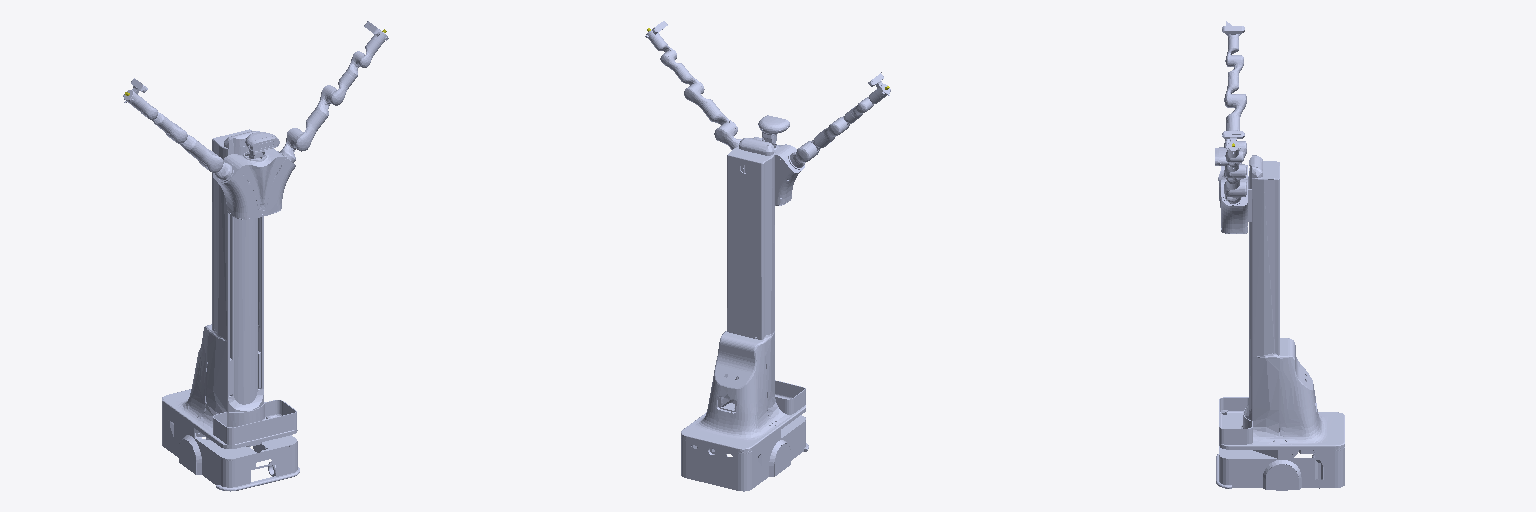
--- Facts derived from the render (not from the file) ---
Views: 3 orthographic renders of the robot side by side, from view 1: azimuth 30°, elevation 25°; view 2: azimuth 150°, elevation 25°; view 3: azimuth 270°, elevation 25°.
Model overseas_75_b_v_description with 45 links and 44 joints (24 revolute, 10 continuous, 1 prismatic, 9 fixed), rooted at world, posed all joints at 0.
Visible links, largest first — view 1: body_base_link, base_link_underpan, platform_base_link, l_link2; view 2: body_base_link, base_link_underpan, platform_base_link, head_link2; view 3: body_base_link, base_link_underpan, platform_base_link.
Link boxes in pixels (box(x1,y1,x2,y2)): body_base_link: box(162, 129, 296, 448); base_link_underpan: box(162, 403, 299, 491); platform_base_link: box(213, 148, 295, 219); l_link2: box(294, 110, 325, 151); body_base_link: box(681, 138, 805, 452); base_link_underpan: box(681, 411, 808, 491); platform_base_link: box(753, 137, 804, 205); head_link2: box(758, 115, 789, 144); body_base_link: box(1219, 155, 1344, 448); base_link_underpan: box(1216, 445, 1344, 489); platform_base_link: box(1218, 165, 1251, 233).
Size in the robot's own frame: 1.39 by 0.6479 by 2.2 metres.
30 mesh visuals loaded from 37 distinct referenced files (30 binary STL); not drawn: 12 (reference not matched to a file when rendering).

The robot description file, URDF, robot "overseas_75_b_v_description":
<?xml version="1.0" encoding="utf-8"?>
<!-- This URDF was automatically created by SolidWorks to URDF Exporter! Originally created by Stephen Brawner ([email redacted]) 
     Commit Version: 1.6.0-4-g7f85cfe  Build Version: 1.6.7995.38578
     For more information, please see http://wiki.ros.org/sw_urdf_exporter -->
<robot
  name="overseas_75_b_v_description">
  <link name="world">
  </link>
  <joint name="world_joint" type="fixed">
  <parent link="world" />
  <child link="base_link_underpan" />
  </joint>

  <link
    name="base_link_underpan">
    <inertial>
      <origin
        xyz="-0.012628 -0.016092 -0.060646"
        rpy="0 0 0" />
      <mass
        value="2.5521" />
      <inertia
        ixx="0.066197"
        ixy="7.0297E-05"
        ixz="0.00017628"
        iyy="0.034903"
        iyz="-0.00059595"
        izz="0.097938" />
    </inertial>
    <visual>
      <origin
        xyz="0 0 0"
        rpy="0 0 0" />
      <geometry>
        <mesh
          filename="meshes_true/base_link_underpan.STL" />
      </geometry>
      <material
        name="">
        <color
          rgba="0.79216 0.81961 0.93333 1" />
      </material>
    </visual>
    <collision>
      <origin
        xyz="0 0 0"
        rpy="0 0 0" />
      <geometry>
        <mesh
          filename="meshes_true/base_link_underpan.STL" />
      </geometry>
    </collision>
  </link>
  <link
    name="link_right_wheel">
    <inertial>
      <origin
        xyz="-0.024898 2.5665E-18 0"
        rpy="0 0 0" />
      <mass
        value="1.0523" />
      <inertia
        ixx="0.0033125"
        ixy="1.5953E-19"
        ixz="1.2287E-20"
        iyy="0.0018066"
        iyz="2.5666E-19"
        izz="0.0018066" />
    </inertial>
    <visual>
      <origin
        xyz="0 0 0"
        rpy="0 0 0" />
      <geometry>
        <mesh
          filename="meshes_true/link_right_wheel.STL" />
      </geometry>
      <material
        name="">
        <color
          rgba="0.79216 0.81961 0.93333 1" />
      </material>
    </visual>
    <collision>
      <origin
        xyz="0 0 0"
        rpy="0 0 0" />
      <geometry>
        <mesh
          filename="meshes_true/link_right_wheel.STL" />
      </geometry>
    </collision>
  </link>
  <joint
    name="joint_right_wheel"
    type="continuous">
    <origin
      xyz="-0.148 0.015574 -0.153"
      rpy="0 0 0" />
    <parent
      link="base_link_underpan" />
    <child
      link="link_right_wheel" />
    <axis
      xyz="1 0 0" />
    <limit
      effort="100"
      velocity="10" />
  </joint>
  <link
    name="link_left_wheel">
    <inertial>
      <origin
        xyz="0.025224 -8.8034E-15 0"
        rpy="0 0 0" />
      <mass
        value="1.0734" />
      <inertia
        ixx="0.0033996"
        ixy="-5.0277E-16"
        ixz="9.2981E-21"
        iyy="0.0019593"
        iyz="3.7534E-19"
        izz="0.0019593" />
    </inertial>
    <visual>
      <origin
        xyz="0 0 0"
        rpy="0 0 0" />
      <geometry>
        <mesh
          filename="meshes_true/link_left_wheel.STL" />
      </geometry>
      <material
        name="">
        <color
          rgba="0.79216 0.81961 0.93333 1" />
      </material>
    </visual>
    <collision>
      <origin
        xyz="0 0 0"
        rpy="0 0 0" />
      <geometry>
        <mesh
          filename="meshes_true/link_left_wheel.STL" />
      </geometry>
    </collision>
  </link>
  <joint
    name="joint_left_wheel"
    type="continuous">
    <origin
      xyz="0.148 0.015574 -0.153"
      rpy="0 0 0" />
    <parent
      link="base_link_underpan" />
    <child
      link="link_left_wheel" />
    <axis
      xyz="-1 0 0" />
    <limit
      effort="100"
      velocity="10" />
  </joint>
  <link
    name="link_swivel_wheel_1_1">
    <inertial>
      <origin
        xyz="0.00067987 -0.0050012 -0.013414"
        rpy="0 0 0" />
      <mass
        value="0.088835" />
      <inertia
        ixx="3.1679E-05"
        ixy="2.0129E-08"
        ixz="2.7021E-08"
        iyy="3.9438E-05"
        iyz="-3.2776E-06"
        izz="4.6143E-05" />
    </inertial>
    <visual>
      <origin
        xyz="0 0 0"
        rpy="0 0 0" />
      <geometry>
        <mesh
          filename="meshes_true/link_swivel_wheel_1_1.STL" />
      </geometry>
      <material
        name="">
        <color
          rgba="0.79216 0.81961 0.93333 1" />
      </material>
    </visual>
    <collision>
      <origin
        xyz="0 0 0"
        rpy="0 0 0" />
      <geometry>
        <mesh
          filename="meshes_true/link_swivel_wheel_1_1.STL" />
      </geometry>
    </collision>
  </link>
  <joint
    name="joint_swivel_wheel_1_1"
    type="continuous">
    <origin
      xyz="0.124 -0.17843 -0.16254"
      rpy="0 0 0" />
    <parent
      link="base_link_underpan" />
    <child
      link="link_swivel_wheel_1_1" />
    <axis
      xyz="0 0 1" />
  </joint>
  <link
    name="link_swivel_wheel_1_2">
    <inertial>
      <origin
        xyz="0.0010651 2.2204E-16 9.4369E-16"
        rpy="0 0 0" />
      <mass
        value="0.12664" />
      <inertia
        ixx="0.00011169"
        ixy="1.1345E-14"
        ixz="2.2064E-14"
        iyy="6.0838E-05"
        iyz="1.7051E-09"
        izz="6.084E-05" />
    </inertial>
    <visual>
      <origin
        xyz="0 0 0"
        rpy="0 0 0" />
      <geometry>
        <mesh
          filename="meshes_true/link_swivel_wheel_1_2.STL" />
      </geometry>
      <material
        name="">
        <color
          rgba="0.79216 0.81961 0.93333 1" />
      </material>
    </visual>
    <collision>
      <origin
        xyz="0 0 0"
        rpy="0 0 0" />
      <geometry>
        <mesh
          filename="meshes_true/link_swivel_wheel_1_2.STL" />
      </geometry>
    </collision>
  </link>
  <joint
    name="joint_swivel_wheel_1_2"
    type="continuous">
    <origin
      xyz="-0.0035 -0.022 -0.04516"
      rpy="0 0 0" />
    <parent
      link="link_swivel_wheel_1_1" />
    <child
      link="link_swivel_wheel_1_2" />
    <axis
      xyz="1 0 0" />
  </joint>
  <link
    name="link_swivel_wheel_2_1">
    <inertial>
      <origin
        xyz="0.00067987 -0.0050012 -0.013414"
        rpy="0 0 0" />
      <mass
        value="0.088835" />
      <inertia
        ixx="3.1679E-05"
        ixy="2.0129E-08"
        ixz="2.7021E-08"
        iyy="3.9438E-05"
        iyz="-3.2776E-06"
        izz="4.6143E-05" />
    </inertial>
    <visual>
      <origin
        xyz="0 0 0"
        rpy="0 0 0" />
      <geometry>
        <mesh
          filename="meshes_true/link_swivel_wheel_2_1.STL" />
      </geometry>
      <material
        name="">
        <color
          rgba="0.79216 0.81961 0.93333 1" />
      </material>
    </visual>
    <collision>
      <origin
        xyz="0 0 0"
        rpy="0 0 0" />
      <geometry>
        <mesh
          filename="meshes_true/link_swivel_wheel_2_1.STL" />
      </geometry>
    </collision>
  </link>
  <joint
    name="joint_swivel_wheel_2_1"
    type="continuous">
    <origin
      xyz="-0.126 0.22157 -0.16254"
      rpy="0 0 0" />
    <parent
      link="base_link_underpan" />
    <child
      link="link_swivel_wheel_2_1" />
    <axis
      xyz="0 0 1" />
  </joint>
  <link
    name="link_swivel_wheel_2_2">
    <inertial>
      <origin
        xyz="0.0010651 6.1062E-16 7.7716E-16"
        rpy="0 0 0" />
      <mass
        value="0.12664" />
      <inertia
        ixx="0.00011169"
        ixy="1.9869E-14"
        ixz="1.4856E-14"
        iyy="6.084E-05"
        iyz="2.0109E-09"
        izz="6.0838E-05" />
    </inertial>
    <visual>
      <origin
        xyz="0 0 0"
        rpy="0 0 0" />
      <geometry>
        <mesh
          filename="meshes_true/link_swivel_wheel_2_2.STL" />
      </geometry>
      <material
        name="">
        <color
          rgba="0.79216 0.81961 0.93333 1" />
      </material>
    </visual>
    <collision>
      <origin
        xyz="0 0 0"
        rpy="0 0 0" />
      <geometry>
        <mesh
          filename="meshes_true/link_swivel_wheel_2_2.STL" />
      </geometry>
    </collision>
  </link>
  <joint
    name="joint_swivel_wheel_2_2"
    type="continuous">
    <origin
      xyz="-0.0035 -0.022 -0.04516"
      rpy="0 0 0" />
    <parent
      link="link_swivel_wheel_2_1" />
    <child
      link="link_swivel_wheel_2_2" />
    <axis
      xyz="1 0 0" />
  </joint>
  <link
    name="link_swivel_wheel_3_1">
    <inertial>
      <origin
        xyz="0.00067987 -0.0050012 -0.013414"
        rpy="0 0 0" />
      <mass
        value="0.088835" />
      <inertia
        ixx="3.1679E-05"
        ixy="2.0129E-08"
        ixz="2.7021E-08"
        iyy="3.9438E-05"
        iyz="-3.2776E-06"
        izz="4.6143E-05" />
    </inertial>
    <visual>
      <origin
        xyz="0 0 0"
        rpy="0 0 0" />
      <geometry>
        <mesh
          filename="meshes_true/link_swivel_wheel_3_1.STL" />
      </geometry>
      <material
        name="">
        <color
          rgba="0.79216 0.81961 0.93333 1" />
      </material>
    </visual>
    <collision>
      <origin
        xyz="0 0 0"
        rpy="0 0 0" />
      <geometry>
        <mesh
          filename="meshes_true/link_swivel_wheel_3_1.STL" />
      </geometry>
    </collision>
  </link>
  <joint
    name="joint_swivel_wheel_3_1"
    type="continuous">
    <origin
      xyz="0.124 0.22157 -0.16254"
      rpy="0 0 0" />
    <parent
      link="base_link_underpan" />
    <child
      link="link_swivel_wheel_3_1" />
    <axis
      xyz="0 0 1" />
  </joint>
  <link
    name="link_swivel_wheel_3_2">
    <inertial>
      <origin
        xyz="0.0010651 -3.3307E-16 8.8818E-16"
        rpy="0 0 0" />
      <mass
        value="0.12664" />
      <inertia
        ixx="0.00011169"
        ixy="-1.8513E-15"
        ixz="2.474E-14"
        iyy="6.0837E-05"
        iyz="-3.1204E-10"
        izz="6.0841E-05" />
    </inertial>
    <visual>
      <origin
        xyz="0 0 0"
        rpy="0 0 0" />
      <geometry>
        <mesh
          filename="meshes_true/link_swivel_wheel_3_2.STL" />
      </geometry>
      <material
        name="">
        <color
          rgba="0.79216 0.81961 0.93333 1" />
      </material>
    </visual>
    <collision>
      <origin
        xyz="0 0 0"
        rpy="0 0 0" />
      <geometry>
        <mesh
          filename="meshes_true/link_swivel_wheel_3_2.STL" />
      </geometry>
    </collision>
  </link>
  <joint
    name="joint_swivel_wheel_3_2"
    type="continuous">
    <origin
      xyz="-0.0035 -0.022 -0.04516"
      rpy="0 0 0" />
    <parent
      link="link_swivel_wheel_3_1" />
    <child
      link="link_swivel_wheel_3_2" />
    <axis
      xyz="1 0 0" />
  </joint>
  <link
    name="link_swivel_wheel_4_1">
    <inertial>
      <origin
        xyz="0.00067987 -0.0050012 -0.0094542"
        rpy="0 0 0" />
      <mass
        value="0.088835" />
      <inertia
        ixx="3.1679E-05"
        ixy="2.0129E-08"
        ixz="2.7021E-08"
        iyy="3.9438E-05"
        iyz="-3.2776E-06"
        izz="4.6143E-05" />
    </inertial>
    <visual>
      <origin
        xyz="0 0 0"
        rpy="0 0 0" />
      <geometry>
        <mesh
          filename="meshes_true/link_swivel_wheel_4_1.STL" />
      </geometry>
      <material
        name="">
        <color
          rgba="0.79216 0.81961 0.93333 1" />
      </material>
    </visual>
    <collision>
      <origin
        xyz="0 0 0"
        rpy="0 0 0" />
      <geometry>
        <mesh
          filename="meshes_true/link_swivel_wheel_4_1.STL" />
      </geometry>
    </collision>
  </link>
  <joint
    name="joint_swivel_wheel_4_1"
    type="continuous">
    <origin
      xyz="-0.126 -0.17843 -0.1665"
      rpy="0 0 0" />
    <parent
      link="base_link_underpan" />
    <child
      link="link_swivel_wheel_4_1" />
    <axis
      xyz="0 0 1" />
  </joint>
  <link
    name="link_swivel_wheel_4_2">
    <inertial>
      <origin
        xyz="0.0010651 -4.996E-16 7.494E-16"
        rpy="0 0 0" />
      <mass
        value="0.12664" />
      <inertia
        ixx="0.00011169"
        ixy="-7.4776E-15"
        ixz="2.3656E-14"
        iyy="6.0837E-05"
        iyz="-1.205E-09"
        izz="6.0841E-05" />
    </inertial>
    <visual>
      <origin
        xyz="0 0 0"
        rpy="0 0 0" />
      <geometry>
        <mesh
          filename="meshes_true/link_swivel_wheel_4_2.STL" />
      </geometry>
      <material
        name="">
        <color
          rgba="0.79216 0.81961 0.93333 1" />
      </material>
    </visual>
    <collision>
      <origin
        xyz="0 0 0"
        rpy="0 0 0" />
      <geometry>
        <mesh
          filename="meshes_true/link_swivel_wheel_4_2.STL" />
      </geometry>
    </collision>
  </link>
  <joint
    name="joint_swivel_wheel_4_2"
    type="continuous">
    <origin
      xyz="-0.0035 -0.022 -0.0412"
      rpy="0 0 0" />
    <parent
      link="link_swivel_wheel_4_1" />
    <child
      link="link_swivel_wheel_4_2" />
    <axis
      xyz="1 0 0" />
  </joint>

  
  
  
  
  
  
  
  
  
  
  
  <link
    name="body_base_link">
    <inertial>
      <origin
        xyz="-0.0002128 -0.02749 0.37118"
        rpy="0 0 0" />
      <mass
        value="12.159" />
      <inertia
        ixx="0.69175"
        ixy="3.0303E-06"
        ixz="-1.7947E-05"
        iyy="0.68839"
        iyz="0.012363"
        izz="0.15316" />
    </inertial>
    <visual>
      <origin
        xyz="0 0 0"
        rpy="0 0 0" />
      <geometry>
        <mesh
          filename="meshes_true/body_base_link.STL" />
      </geometry>
      <material
        name="">
        <color
          rgba="0.79216 0.81961 0.93333 1" />
      </material>
    </visual>
    <collision>
      <origin
        xyz="0 0 0"
        rpy="0 0 0" />
      <geometry>
        <mesh
          filename="meshes_true/body_base_link.STL" />
      </geometry>
    </collision>
  </link>
  
  
  
  
  
  <joint
    name="body_base_joint"
    type="fixed">
    <origin
      xyz="0 0 0"
      rpy="0 0 0" />
    <parent
      link="base_link_underpan" />
    <child
      link="body_base_link" />
    <axis
      xyz="1 0 0" />
    <limit
      effort="0"
      velocity="0" />
  </joint>  
  
  
  
  
  
  
  
  
  <link
    name="platform_base_link">
    <inertial>
      <origin
        xyz="-4.8033E-05 -0.05292 0.00070789"
        rpy="0 0 0" />
      <mass
        value="2.8992" />
      <inertia
        ixx="0.013327"
        ixy="3.14E-06"
        ixz="3.5257E-06"
        iyy="0.032331"
        iyz="6.163E-05"
        izz="0.021546" />
    </inertial>
    <visual>
      <origin
        xyz="0 0 0"
        rpy="0 0 0" />
      <geometry>
        <mesh
          filename="meshes_true/platform_base_link.STL" />
      </geometry>
      <material
        name="">
        <color
          rgba="0.79216 0.81961 0.93333 1" />
      </material>
    </visual>
    <collision>
      <origin
        xyz="0 0 0"
        rpy="0 0 0" />
      <geometry>
        <mesh
          filename="meshes_true/platform_base_link.STL" />
      </geometry>
    </collision>
  </link>
  <joint
    name="platform_joint"
    type="prismatic">
    <origin
      xyz="0 -0.11663 1.271"
      rpy="0 0 0" />
    <parent
      link="body_base_link" />
    <child
      link="platform_base_link" />
    <axis
      xyz="0 0 -1" />
    <limit
      lower="0"
      upper="1"
      effort="60"
      velocity="0.15" />
  </joint>
  <link
    name="head_link1">
    <inertial>
      <origin
        xyz="-0.00017562 -0.015989 0.024926"
        rpy="0 0 0" />
      <mass
        value="0.049513" />
      <inertia
        ixx="1.6251E-05"
        ixy="-4.4281E-09"
        ixz="7.808E-08"
        iyy="2.2171E-05"
        iyz="-4.661E-07"
        izz="1.3605E-05" />
    </inertial>
    <visual>
      <origin
        xyz="0 0 0"
        rpy="0 0 0" />
      <geometry>
        <mesh
          filename="meshes_true/head_link1.STL" />
      </geometry>
      <material
        name="">
        <color
          rgba="0.79216 0.81961 0.93333 1" />
      </material>
    </visual>
    <collision>
      <origin
        xyz="0 0 0"
        rpy="0 0 0" />
      <geometry>
        <mesh
          filename="meshes_true/head_link1.STL" />
      </geometry>
    </collision>
  </link>
  <joint
    name="head_joint1"
    type="revolute">
    <origin
      xyz="0 -0.1018 0.126"
      rpy="0 0 0" />
    <parent
      link="platform_base_link" />
    <child
      link="head_link1" />
    <axis
      xyz="0 0 1" />
    <limit
      lower="-1.256"
      upper="1.256"
      effort="2"
      velocity="1.57" />
  </joint>
  <link
    name="head_link2">
    <inertial>
      <origin
        xyz="-0.00051349 -0.027144 0.0551"
        rpy="0 0 0" />
      <mass
        value="0.23639" />
      <inertia
        ixx="0.00025664"
        ixy="-1.6537E-08"
        ixz="1.3993E-07"
        iyy="0.0005615"
        iyz="1.8036E-05"
        izz="0.00052625" />
    </inertial>
    <visual>
      <origin
        xyz="0 0 0"
        rpy="0 0 0" />
      <geometry>
        <mesh
          filename="meshes_true/head_link2.STL" />
      </geometry>
      <material
        name="">
        <color
          rgba="0.79216 0.81961 0.93333 1" />
      </material>
    </visual>
    <collision>
      <origin
        xyz="0 0 0"
        rpy="0 0 0" />
      <geometry>
        <mesh
          filename="meshes_true/head_link2.STL" />
      </geometry>
    </collision>
  </link>
  <joint
    name="head_joint2"
    type="revolute">
    <origin
      xyz="0 -0.02 0.044"
      rpy="0 0 0" />
    <parent
      link="head_link1" />
    <child
      link="head_link2" />
    <axis
      xyz="-1 0 0" />
    <limit
      lower="-0.419"
      upper="0.419"
      effort="2"
      velocity="1.57" />
  </joint>
  <link
    name="camera_link">
    <inertial>
      <origin
        xyz="0.0016556 -0.01252 1.2156E-05"
        rpy="0 0 0" />
      <mass
        value="0.049778" />
      <inertia
        ixx="4.8577E-06"
        ixy="4.3442E-07"
        ixz="-6.2436E-10"
        iyy="3.075E-05"
        iyz="6.4645E-10"
        izz="3.0901E-05" />
    </inertial>
    <visual>
      <origin
        xyz="0 0 0"
        rpy="0 0 0" />
      <geometry>
        <mesh
          filename="meshes_true/camera_link.STL" />
      </geometry>
      <material
        name="">
        <color
          rgba="0.79216 0.81961 0.93333 1" />
      </material>
    </visual>
    <collision>
      <origin
        xyz="0 0 0"
        rpy="0 0 0" />
      <geometry>
        <mesh
          filename="meshes_true/camera_link.STL" />
      </geometry>
    </collision>
  </link>
  <joint
    name="camera_joint"
    type="fixed">
    <origin
      xyz="-0.0032391 -0.051866 0.061606"
      rpy="0 0 0" />
    <parent
      link="head_link2" />
    <child
      link="camera_link" />
    <axis
      xyz="0 0 0" />
  </joint>
  <link
    name="l_base_link1">
    <inertial>
      <origin
        xyz="-3.58E-05 -0.0056915 0.024464"
        rpy="0 0 0" />
      <mass
        value="0.23441" />
      <inertia
        ixx="0.00027369"
        ixy="6.5702E-08"
        ixz="2.7812E-09"
        iyy="0.000264"
        iyz="-1.6355E-06"
        izz="0.00036679" />
    </inertial>
    <visual>
      <origin
        xyz="0 0 0"
        rpy="0 0 0" />
      <geometry>
        <mesh
          filename="meshes_true/l_base_link1.STL" />
      </geometry>
      <material
        name="">
        <color
          rgba="0.79216 0.81961 0.93333 1" />
      </material>
    </visual>
    <collision>
      <origin
        xyz="0 0 0"
        rpy="0 0 0" />
      <geometry>
        <mesh
          filename="meshes_true/l_base_link1.STL" />
      </geometry>
    </collision>
  </link>
  <joint
    name="l_base_joint1"
    type="fixed">
    <origin
      xyz="0.1 -0.1103 0.031645"
      rpy="0 -0.7854 3.1416" />
    <parent
      link="platform_base_link" />
    <child
      link="l_base_link1" />
    <axis
      xyz="0 0 0" />
  </joint>
  <link
    name="r_base_link1">
    <inertial>
      <origin
        xyz="-4.8022E-05 0.0056915 0.024715"
        rpy="0 0 0" />
      <mass
        value="0.23441" />
      <inertia
        ixx="0.00027369"
        ixy="6.5702E-08"
        ixz="-3.2599E-09"
        iyy="0.000264"
        iyz="1.6355E-06"
        izz="0.00036679" />
    </inertial>
    <visual>
      <origin
        xyz="0 0 0"
        rpy="0 0 0" />
      <geometry>
        <mesh
          filename="meshes_true/r_base_link1.STL" />
      </geometry>
      <material
        name="">
        <color
          rgba="0.79216 0.81961 0.93333 1" />
      </material>
    </visual>
    <collision>
      <origin
        xyz="0 0 0"
        rpy="0 0 0" />
      <geometry>
        <mesh
          filename="meshes_true/r_base_link1.STL" />
      </geometry>
    </collision>
  </link>
  <joint
    name="r_base_joint1"
    type="fixed">
    <origin
      xyz="-0.1 -0.1103 0.031645"
      rpy="0 -0.7854 0" />
    <parent
      link="platform_base_link" />
    <child
      link="r_base_link1" />
    <axis
      xyz="0 0 0" />
  </joint>  
  
  
  
  
  
  
 
  <link
    name="r_link1">
    <inertial>
      <origin
        xyz="2.8966E-07 0.025188 -0.021107"
        rpy="0 0 0" />
      <mass
        value="0.59353" />
      <inertia
        ixx="0.0012661"
        ixy="-2.0397E-09"
        ixz="-5.3423E-09"
        iyy="0.00056131"
        iyz="-0.00021118"
        izz="0.0011816" />
    </inertial>
    <visual>
      <origin
        xyz="0 0 0"
        rpy="0 0 0" />
      <geometry>
        <mesh
          filename="meshes_true/r_link1.STL" />
      </geometry>
      <material
        name="">
        <color
          rgba="0.79216 0.81961 0.93333 1" />
      </material>
    </visual>
    <collision>
      <origin
        xyz="0 0 0"
        rpy="0 0 0" />
      <geometry>
        <mesh
          filename="meshes_true/r_link1.STL" />
      </geometry>
    </collision>
  </link>
  <joint
    name="r_joint1"
    type="revolute">
    <origin
      xyz="0 0 0.187"
      rpy="-1.5708 0 3.1415" />
    <parent
      link="r_base_link1" />
    <child
      link="r_link1" />
    <axis
      xyz="0 -1 0" />
    <limit
      lower="-3.11"
      upper="3.11"
      effort="60"
      velocity="3.14" />
  </joint>
  <link
    name="r_link2">
    <inertial>
      <origin
        xyz="3.7069E-07 0.011077 0.07613"
        rpy="0 0 0" />
      <mass
        value="0.43285" />
      <inertia
        ixx="0.0012584"
        ixy="7.782E-10"
        ixz="3.39E-09"
        iyy="0.0012224"
        iyz="0.00027899"
        izz="0.00031747" />
    </inertial>
    <visual>
      <origin
        xyz="0 0 0"
        rpy="0 0 0" />
      <geometry>
        <mesh
          filename="meshes_true/r_link2.STL" />
      </geometry>
      <material
        name="">
        <color
          rgba="0.79216 0.81961 0.93333 1" />
      </material>
    </visual>
    <collision>
      <origin
        xyz="0 0 0"
        rpy="0 0 0" />
      <geometry>
        <mesh
          filename="meshes_true/r_link2.STL" />
      </geometry>
    </collision>
  </link>
  <joint
    name="r_joint2"
    type="revolute">
    <origin
      xyz="0 0 0"
      rpy="1.5708 0 0" />
    <parent
      link="r_link1" />
    <child
      link="r_link2" />
    <axis
      xyz="0 1 0" />
    <limit
      lower="-2.27"
      upper="2.27"
      effort="60"
      velocity="3.14" />
  </joint>
  <link
    name="r_link3">
    <inertial>
      <origin
        xyz="1.192E-07 0.027347 -0.023544"
        rpy="0 0 0" />
      <mass
        value="0.43132" />
      <inertia
        ixx="0.00079434"
        ixy="1.4708E-09"
        ixz="2.8344E-09"
        iyy="0.00031506"
        iyz="-0.00014262"
        izz="0.00073038" />
    </inertial>
    <visual>
      <origin
        xyz="0 0 0"
        rpy="0 0 0" />
      <geometry>
        <mesh
          filename="meshes_true/r_link3.STL" />
      </geometry>
      <material
        name="">
        <color
          rgba="0.79216 0.81961 0.93333 1" />
      </material>
    </visual>
    <collision>
      <origin
        xyz="0 0 0"
        rpy="0 0 0" />
      <geometry>
        <mesh
          filename="meshes_true/r_link3.STL" />
      </geometry>
    </collision>
  </link>
  <joint
    name="r_joint3"
    type="revolute">
    <origin
      xyz="0 0 0.256"
      rpy="-1.5708 0 0" />
    <parent
      link="r_link2" />
    <child
      link="r_link3" />
    <axis
      xyz="0 -1 0" />
    <limit
      lower="-3.11"
      upper="3.11"
      effort="30"
      velocity="3.925" />
  </joint>
  <link
    name="r_link4">
    <inertial>
      <origin
        xyz="4.7388E-06 0.010268 0.059592"
        rpy="0 0 0" />
      <mass
        value="0.28963" />
      <inertia
        ixx="0.00063737"
        ixy="-3.5039E-08"
        ixz="6.2578E-08"
        iyy="0.00061418"
        iyz="0.00014461"
        izz="0.00015649" />
    </inertial>
    <visual>
      <origin
        xyz="0 0 0"
        rpy="0 0 0" />
      <geometry>
        <mesh
          filename="meshes_true/r_link4.STL" />
      </geometry>
      <material
        name="">
        <color
          rgba="0.79216 0.81961 0.93333 1" />
      </material>
    </visual>
    <collision>
      <origin
        xyz="0 0 0"
        rpy="0 0 0" />
      <geometry>
        <mesh
          filename="meshes_true/r_link4.STL" />
      </geometry>
    </collision>
  </link>
  <joint
    name="r_joint4"
    type="revolute">
    <origin
      xyz="0 0 0"
      rpy="1.5708 0 0" />
    <parent
      link="r_link3" />
    <child
      link="r_link4" />
    <axis
      xyz="0 1 0" />
    <limit
      lower="-2.36"
      upper="2.36"
      effort="30"
      velocity="3.925" />
  </joint>
  <link
    name="r_link5">
    <inertial>
      <origin
        xyz="2.9088E-07 0.02154 -0.018042"
        rpy="0 0 0" />
      <mass
        value="0.23942" />
      <inertia
        ixx="0.00028595"
        ixy="-1.386E-09"
        ixz="-2.3541E-09"
        iyy="0.0001199"
        iyz="-4.424E-05"
        izz="0.00026273" />
    </inertial>
    <visual>
      <origin
        xyz="0 0 0"
        rpy="0 0 0" />
      <geometry>
        <mesh
          filename="meshes_true/r_link5.STL" />
      </geometry>
      <material
        name="">
        <color
          rgba="0.79216 0.81961 0.93333 1" />
      </material>
    </visual>
    <collision>
      <origin
        xyz="0 0 0"
        rpy="0 0 0" />
      <geometry>
        <mesh
          filename="meshes_true/r_link5.STL" />
      </geometry>
    </collision>
  </link>
  <joint
    name="r_joint5"
    type="revolute">
    <origin
      xyz="0 -0.00030007 0.21"
      rpy="-1.5708 0 0" />
    <parent
      link="r_link4" />
    <child
      link="r_link5" />
    <axis
      xyz="0 -1 0" />
    <limit
      lower="-3.11"
      upper="3.11"
      effort="10"
      velocity="3.925" />
  </joint>
  <link
    name="r_link6">
    <inertial>
      <origin
        xyz="4.247E-06 0.0070761 0.05938"
        rpy="0 0 0" />
      <mass
        value="0.21879" />
      <inertia
        ixx="0.00035053"
        ixy="-1.6543E-08"
        ixz="2.8572E-08"
        iyy="0.0003345"
        iyz="7.8205E-05"
        izz="0.0001049" />
    </inertial>
    <visual>
      <origin
        xyz="0 0 0"
        rpy="0 0 0" />
      <geometry>
        <mesh
          filename="meshes_true/r_link6.STL" />
      </geometry>
      <material
        name="">
        <color
          rgba="0.79216 0.81961 0.93333 1" />
      </material>
    </visual>
    <collision>
      <origin
        xyz="0 0 0"
        rpy="0 0 0" />
      <geometry>
        <mesh
          filename="meshes_true/r_link6.STL" />
      </geometry>
    </collision>
  </link>
  <joint
    name="r_joint6"
    type="revolute">
    <origin
      xyz="0 0 0"
      rpy="1.5709 0 0" />
    <parent
      link="r_link5" />
    <child
      link="r_link6" />
    <axis
      xyz="0 1 0.00015298" />
    <limit
      lower="-2.23"
      upper="2.23"
      effort="10"
      velocity="3.925" />
  </joint>
  <link
    name="r_link7">
    <inertial>
      <origin
        xyz="-0.028764 5.1464E-06 0.023085"
        rpy="0 0 0" />
      <mass
        value="0.22147" />
      <inertia
        ixx="0.0001376"
        ixy="-5.7488E-08"
        ixz="1.6634E-05"
        iyy="0.00026855"
        iyz="-1.7799E-08"
        izz="0.00035277" />
    </inertial>
    <visual>
      <origin
        xyz="0 0 0"
        rpy="0 0 0" />
      <geometry>
        <mesh
          filename="meshes_true/r_link7.STL" />
      </geometry>
      <material
        name="">
        <color
          rgba="0.79216 0.81961 0.93333 1" />
      </material>
    </visual>
    <collision>
      <origin
        xyz="0 0 0"
        rpy="0 0 0" />
      <geometry>
        <mesh
          filename="meshes_true/r_link7.STL" />
      </geometry>
    </collision>
  </link>
  <joint
    name="r_joint7"
    type="revolute">
    <origin
      xyz="0 -0.00028182 0.117"
      rpy="-0.00015298 0 0" />
    <parent
      link="r_link6" />
    <child
      link="r_link7" />
    <axis
      xyz="0 0 1" />
    <limit
      lower="-6.28"
      upper="6.28"
      effort="10"
      velocity="3.925" />
  </joint>
  
  
  
    <!-- 新增圆柱体 Link7_cylinder -->
  <link name="r_Link7_cylinder">
    <inertial>
      <origin xyz="0 0 0" rpy="0 0 0"/>
      <mass value="0.1" />
      <inertia ixx="0.0001" ixy="0" ixz="0" iyy="0.0001" iyz="0" izz="0.0001"/>
    </inertial>
    <visual>
      <origin xyz="0 0 0.05" rpy="0 0 0"/>  <!-- 圆柱体中心偏移，可根据需求调 -->
      <geometry>
        <cylinder length="0.0285" radius="0.008" />
      </geometry>
      <material name="">
        <color rgba="0.8 0.8 0.2 1"/>
      </material>
    </visual>
    <collision>
      <origin xyz="0 0 0.05" rpy="0 0 0"/>
      <geometry>
        <cylinder length="0.04" radius="0.02" />
      </geometry>
    </collision>
  </link>
  

   <!-- <link
    name="r_hand">
    <inertial>
      <origin
        xyz="-0.0077366 0.0020217 0.084945"
        rpy="0 0 0" />
      <mass
        value="0.19137" />
      <inertia
        ixx="0.00045852"
        ixy="-2.2207E-05"
        ixz="-5.5348E-06"
        iyy="0.00053494"
        iyz="-2.5678E-06"
        izz="0.00019084" />
    </inertial>
    <visual>
      <origin
        xyz="0 0 0"
        rpy="0 0 0" />
      <geometry>
        <mesh
          filename="meshes_true/r_hand_base_link.STL" />
      </geometry>
      <material
        name="">
        <color
          rgba="0.75294 0.75294 0.75294 1" />
      </material>
    </visual>
    <collision>
      <origin
        xyz="0 0 0"
        rpy="0 0 0" />
      <geometry>
        <mesh
          filename="meshes_true/r_hand_base_link.STL" />
      </geometry>
    </collision>
  </link>  -->

<!-- 
  <joint
    name="r_hand_joint"
    type="fixed">
    <origin
      xyz="0 0 0.0445"
      rpy="0 0 0" />
    <parent
      link="r_link7" />
    <child
      link="r_hand" />
    <axis
      xyz="0 0 -1" />
    <limit
      lower="0"
      upper="0"
      effort="0"
      velocity="0" />
  </joint>   -->
  
  
  <joint
    name="r_hand_joint_cylinder"
    type="fixed">
    <origin
      xyz="0 0 -0.0045"
      rpy="0 0 0" />
    <parent
      link="r_link7" />
    <child
      link="r_Link7_cylinder" />
    <axis
      xyz="0 0 -1" />
    <limit
      lower="0"
      upper="0"
      effort="0"
      velocity="0" />
  </joint>  
  
  
  <link
    name="r_gripper_base_link">
    <inertial>
      <origin
        xyz="0.00339303654278191 -2.1205433560656E-05 -0.0099185365078758"
        rpy="0 0 0" />
      <mass
        value="0.105853592307918" />
      <inertia
        ixx="3.93795927851199E-05"
        ixy="-8.7395226509728E-08"
        ixz="5.91928672040786E-07"
        iyy="0.000106376720416166"
        iyz="-1.82858764303774E-10"
        izz="0.000125852616063213" />
    </inertial>
    <visual>
      <origin
        xyz="0 0 0"
        rpy="0 0 0" />
      <geometry>
        <mesh
          filename="meshes/gripper/base_link.STL" />
      </geometry>
      <material
        name="">
        <color
          rgba="0.894117647058823 0.913725490196078 0.929411764705882 1" />
      </material>
    </visual>
    <collision>
      <origin
        xyz="0 0 0"
        rpy="0 0 0" />
      <geometry>
        <mesh
          filename="meshes/gripper/base_link.STL" />
      </geometry>
    </collision>
  </link>
  <link
    name="r_gripper_Link1">
    <inertial>
      <origin
        xyz="0.0164149658242926 9.75754915755189E-09 0.00898193900447147"
        rpy="0 0 0" />
      <mass
        value="0.00647716099397792" />
      <inertia
        ixx="2.95068972140683E-07"
        ixy="8.63208170411155E-13"
        ixz="-1.92008628754607E-09"
        iyy="1.69979619476872E-06"
        iyz="-1.99232397395103E-13"
        izz="1.45016449434989E-06" />
    </inertial>
    <visual>
      <origin
        xyz="0 0 0"
        rpy="0 0 0" />
      <geometry>
        <mesh
          filename="meshes/gripper/Link1.STL" />
      </geometry>
      <material
        name="">
        <color
          rgba="0.894117647058823 0.913725490196078 0.929411764705882 1" />
      </material>
    </visual>
    <collision>
      <origin
        xyz="0 0 0"
        rpy="0 0 0" />
      <geometry>
        <mesh
          filename="meshes/gripper_Link1.STL" />
      </geometry>
    </collision>
  </link>
  <joint
    name="r_Link1"
    type="revolute">
    <origin
      xyz="0.036 -0.04 -0.019"
      rpy="-3.0158E-16 -7.1586E-16 -0.30719" />
    <parent
      link="r_gripper_base_link" />
    <child
      link="r_gripper_Link1" />
    <axis
      xyz="0 0 1" />
    <limit
      lower="0"
      upper="1"
      effort="1"
      velocity="1" />
  </joint>
  <link
    name="r_gripper_Link11">
    <inertial>
      <origin
        xyz="0.011366555972498 0.0118642725662323 0.0060000073930068"
        rpy="0 0 0" />
      <mass
        value="0.0127543420299361" />
      <inertia
        ixx="5.68538478020233E-07"
        ixy="-2.68012262729007E-07"
        ixz="9.34125984931838E-13"
        iyy="1.45145776457487E-06"
        iyz="9.34355360561326E-13"
        izz="1.50564598220449E-06" />
    </inertial>
    <visual>
      <origin
        xyz="0 0 0"
        rpy="0 0 0" />
      <geometry>
        <mesh
          filename="meshes/gripper/Link11.STL" />
      </geometry>
      <material
        name="">
        <color
          rgba="0.894117647058823 0.913725490196078 0.929411764705882 1" />
      </material>
    </visual>
    <collision>
      <origin
        xyz="0 0 0"
        rpy="0 0 0" />
      <geometry>
        <mesh
          filename="meshes/gripper/Link11.STL" />
      </geometry>
    </collision>
  </link>
  <joint
    name="r_gripper_Link11"
    type="revolute">
    <origin
      xyz="0.042 0 0.003"
      rpy="5.0393E-16 5.6225E-16 0.30719" />
    <parent
      link="r_gripper_Link1" />
    <child
      link="r_gripper_Link11" />
    <axis
      xyz="0 0 1" />
    <limit
      lower="-1"
      upper="0"
      effort="1"
      velocity="1" />
  </joint>
  <link
    name="r_gripper_Link2">
    <inertial>
      <origin
        xyz="0.0164149658242926 9.75754915755189E-09 0.00898193900447147"
        rpy="0 0 0" />
      <mass
        value="0.00647716099397793" />
      <inertia
        ixx="2.95068972140683E-07"
        ixy="8.63208169650113E-13"
        ixz="-1.92008628755341E-09"
        iyy="1.69979619476872E-06"
        iyz="-1.99232397320157E-13"
        izz="1.45016449434989E-06" />
    </inertial>
    <visual>
      <origin
        xyz="0 0 0"
        rpy="0 0 0" />
      <geometry>
        <mesh
          filename="meshes/gripper/Link2.STL" />
      </geometry>
      <material
        name="">
        <color
          rgba="0.894117647058823 0.913725490196078 0.929411764705882 1" />
      </material>
    </visual>
    <collision>
      <origin
        xyz="0 0 0"
        rpy="0 0 0" />
      <geometry>
        <mesh
          filename="meshes/gripper/Link2.STL" />
      </geometry>
    </collision>
  </link>
  <joint
    name="r_gripper_Link2"
    type="revolute">
    <origin
      xyz="0.036 0.04 -0.019"
      rpy="-2.6397E-16 3.7199E-16 0.30719" />
    <parent
      link="r_gripper_base_link" />
    <child
      link="r_gripper_Link2" />
    <axis
      xyz="0 0 1" />
    <limit
      lower="-1"
      upper="0"
      effort="1"
      velocity="1" />
  </joint>
  <link
    name="r_gripper_Link22">
    <inertial>
      <origin
        xyz="-0.011366555972498 0.0118642725662323 -0.0060000073930068"
        rpy="0 0 0" />
      <mass
        value="0.0127543420299362" />
      <inertia
        ixx="5.68538478020238E-07"
        ixy="2.6801226272901E-07"
        ixz="9.34125986250171E-13"
        iyy="1.45145776457489E-06"
        iyz="-9.34355361631596E-13"
        izz="1.5056459822045E-06" />
    </inertial>
    <visual>
      <origin
        xyz="0 0 0"
        rpy="0 0 0" />
      <geometry>
        <mesh
          filename="meshes/gripper/Link22.STL" />
      </geometry>
      <material
        name="">
        <color
          rgba="0.894117647058823 0.913725490196078 0.929411764705882 1" />
      </material>
    </visual>
    <collision>
      <origin
        xyz="0 0 0"
        rpy="0 0 0" />
      <geometry>
        <mesh
          filename="meshes/gripper/Link22.STL" />
      </geometry>
    </collision>
  </link>
  <joint
    name="r_gripper_Link22"
    type="revolute">
    <origin
      xyz="0.042 0 0.015"
      rpy="-3.641E-16 2.4584E-16 2.8344" />
    <parent
      link="r_gripper_Link2" />
    <child
      link="r_gripper_Link22" />
    <axis
      xyz="0 0 1" />
    <limit
      lower="0"
      upper="1"
      effort="1"
      velocity="1" />
  </joint>
  
  
    <joint
    name="cylinder_to_r_gripper_joint"
    type="fixed">
    <origin
      xyz="-0.01 0 0.097"
      rpy="0 -1.57 0" />
    <parent
      link="r_Link7_cylinder" />
    <child
      link="r_gripper_base_link" />
    <axis
      xyz="0 0 -1" />
    <limit
      lower="0"
      upper="0"
      effort="0"
      velocity="0" />
  </joint>  
  
  
  
  
  
  
  
  
  
  
  
  
  
  
  
  
  
  
  
  
  
  
 





  <link
    name="l_link1">
    <inertial>
      <origin
        xyz="2.9692E-07 0.025188 -0.021107"
        rpy="0 0 0" />
      <mass
        value="0.59353" />
      <inertia
        ixx="0.0012661"
        ixy="-2.1134E-09"
        ixz="-5.3685E-09"
        iyy="0.00056131"
        iyz="-0.00021118"
        izz="0.0011816" />
    </inertial>
    <visual>
      <origin
        xyz="0 0 0"
        rpy="0 0 0" />
      <geometry>
        <mesh
          filename="meshes_true/l_link1.STL" />
      </geometry>
      <material
        name="">
        <color
          rgba="0.79216 0.81961 0.93333 1" />
      </material>
    </visual>
    <collision>
      <origin
        xyz="0 0 0"
        rpy="0 0 0" />
      <geometry>
        <mesh
          filename="meshes_true/l_link1.STL" />
      </geometry>
    </collision>
  </link>
  <joint
    name="l_joint1"
    type="revolute">
    <origin
      xyz="0 0 0.187"
      rpy="-1.5708 0 0" />
    <parent
      link="l_base_link1" />
    <child
      link="l_link1" />
    <axis
      xyz="0 -1 0" />
    <limit
      lower="-3.11"
      upper="3.11"
      effort="60"
      velocity="3.14" />
  </joint>
  <link
    name="l_link2">
    <inertial>
      <origin
        xyz="3.7598E-07 0.011077 0.07613"
        rpy="0 0 0" />
      <mass
        value="0.43285" />
      <inertia
        ixx="0.0012584"
        ixy="7.8046E-10"
        ixz="3.3823E-09"
        iyy="0.0012224"
        iyz="0.00027899"
        izz="0.00031747" />
    </inertial>
    <visual>
      <origin
        xyz="0 0 0"
        rpy="0 0 0" />
      <geometry>
        <mesh
          filename="meshes_true/l_link2.STL" />
      </geometry>
      <material
        name="">
        <color
          rgba="0.79216 0.81961 0.93333 1" />
      </material>
    </visual>
    <collision>
      <origin
        xyz="0 0 0"
        rpy="0 0 0" />
      <geometry>
        <mesh
          filename="meshes_true/l_link2.STL" />
      </geometry>
    </collision>
  </link>
  <joint
    name="l_joint2"
    type="revolute">
    <origin
      xyz="0 0 0"
      rpy="1.5708 0 0" />
    <parent
      link="l_link1" />
    <child
      link="l_link2" />
    <axis
      xyz="0 1 0" />
    <limit
      lower="-2.27"
      upper="2.27"
      effort="60"
      velocity="3.14" />
  </joint>
  <link
    name="l_link3">
    <inertial>
      <origin
        xyz="1.1341E-07 0.027347 -0.023544"
        rpy="0 0 0" />
      <mass
        value="0.43132" />
      <inertia
        ixx="0.00079434"
        ixy="1.4278E-09"
        ixz="2.8253E-09"
        iyy="0.00031506"
        iyz="-0.00014262"
        izz="0.00073038" />
    </inertial>
    <visual>
      <origin
        xyz="0 0 0"
        rpy="0 0 0" />
      <geometry>
        <mesh
          filename="meshes_true/l_link3.STL" />
      </geometry>
      <material
        name="">
        <color
          rgba="0.79216 0.81961 0.93333 1" />
      </material>
    </visual>
    <collision>
      <origin
        xyz="0 0 0"
        rpy="0 0 0" />
      <geometry>
        <mesh
          filename="meshes_true/l_link3.STL" />
      </geometry>
    </collision>
  </link>
  <joint
    name="l_joint3"
    type="revolute">
    <origin
      xyz="0 0 0.256"
      rpy="-1.5708 0 0" />
    <parent
      link="l_link2" />
    <child
      link="l_link3" />
    <axis
      xyz="0 -1 0" />
    <limit
      lower="-3.11"
      upper="3.11"
      effort="30"
      velocity="3.925" />
  </joint>
  <link
    name="l_link4">
    <inertial>
      <origin
        xyz="4.7315E-06 0.010268 0.059592"
        rpy="0 0 0" />
      <mass
        value="0.28963" />
      <inertia
        ixx="0.00063737"
        ixy="-3.5036E-08"
        ixz="6.2577E-08"
        iyy="0.00061418"
        iyz="0.00014461"
        izz="0.00015649" />
    </inertial>
    <visual>
      <origin
        xyz="0 0 0"
        rpy="0 0 0" />
      <geometry>
        <mesh
          filename="meshes_true/l_link4.STL" />
      </geometry>
      <material
        name="">
        <color
          rgba="0.79216 0.81961 0.93333 1" />
      </material>
    </visual>
    <collision>
      <origin
        xyz="0 0 0"
        rpy="0 0 0" />
      <geometry>
        <mesh
          filename="meshes_true/l_link4.STL" />
      </geometry>
    </collision>
  </link>
  <joint
    name="l_joint4"
    type="revolute">
    <origin
      xyz="0 0 0"
      rpy="1.5708 0 0" />
    <parent
      link="l_link3" />
    <child
      link="l_link4" />
    <axis
      xyz="0 1 0" />
    <limit
      lower="-2.36"
      upper="2.36"
      effort="30"
      velocity="3.925" />
  </joint>
  <link
    name="l_link5">
    <inertial>
      <origin
        xyz="2.93E-07 0.02154 -0.018042"
        rpy="0 0 0" />
      <mass
        value="0.23942" />
      <inertia
        ixx="0.00028595"
        ixy="-1.4023E-09"
        ixz="-2.3584E-09"
        iyy="0.0001199"
        iyz="-4.424E-05"
        izz="0.00026273" />
    </inertial>
    <visual>
      <origin
        xyz="0 0 0"
        rpy="0 0 0" />
      <geometry>
        <mesh
          filename="meshes_true/l_link5.STL" />
      </geometry>
      <material
        name="">
        <color
          rgba="0.79216 0.81961 0.93333 1" />
      </material>
    </visual>
    <collision>
      <origin
        xyz="0 0 0"
        rpy="0 0 0" />
      <geometry>
        <mesh
          filename="meshes_true/l_link5.STL" />
      </geometry>
    </collision>
  </link>
  <joint
    name="l_joint5"
    type="revolute">
    <origin
      xyz="0 -0.00030001 0.21"
      rpy="-1.5708 0 0" />
    <parent
      link="l_link4" />
    <child
      link="l_link5" />
    <axis
      xyz="0 -1 0" />
    <limit
      lower="-3.11"
      upper="3.11"
      effort="10"
      velocity="3.925" />
  </joint>
  <link
    name="l_link6">
    <inertial>
      <origin
        xyz="4.2445E-06 0.007067 0.059381"
        rpy="0 0 0" />
      <mass
        value="0.21879" />
      <inertia
        ixx="0.00035053"
        ixy="-1.6558E-08"
        ixz="2.8592E-08"
        iyy="0.00033447"
        iyz="7.824E-05"
        izz="0.00010492" />
    </inertial>
    <visual>
      <origin
        xyz="0 0 0"
        rpy="0 0 0" />
      <geometry>
        <mesh
          filename="meshes_true/l_link6.STL" />
      </geometry>
      <material
        name="">
        <color
          rgba="0.79216 0.81961 0.93333 1" />
      </material>
    </visual>
    <collision>
      <origin
        xyz="0 0 0"
        rpy="0 0 0" />
      <geometry>
        <mesh
          filename="meshes_true/l_link6.STL" />
      </geometry>
    </collision>
  </link>
  <joint
    name="l_joint6"
    type="revolute">
    <origin
      xyz="0 0 0"
      rpy="1.5708 0 0" />
    <parent
      link="l_link5" />
    <child
      link="l_link6" />
    <axis
      xyz="0 1 0" />
    <limit
      lower="-2.23"
      upper="2.23"
      effort="10"
      velocity="3.925" />
  </joint>
  <link
    name="l_link7">
    <inertial>
      <origin
        xyz="-0.028763 5.1529E-06 0.025085"
        rpy="0 0 0" />
      <mass
        value="0.22147" />
      <inertia
        ixx="0.0001376"
        ixy="-5.7487E-08"
        ixz="1.6636E-05"
        iyy="0.00026856"
        iyz="-1.7799E-08"
        izz="0.00035278" />
    </inertial>
    <visual>
      <origin
        xyz="0 0 0"
        rpy="0 0 0" />
      <geometry>
        <mesh
          filename="meshes_true/l_link7.STL" />
      </geometry>
      <material
        name="">
        <color
          rgba="0.79216 0.81961 0.93333 1" />
      </material>
    </visual>
    <collision>
      <origin
        xyz="0 0 0"
        rpy="0 0 0" />
      <geometry>
        <mesh
          filename="meshes_true/l_link7.STL" />
      </geometry>
    </collision>
  </link>
  <joint
    name="l_joint7"
    type="revolute">
    <origin
      xyz="0 -0.00029971 0.115"
      rpy="0 0 3.14" />
    <parent
      link="l_link6" />
    <child
      link="l_link7" />
    <axis
      xyz="0 0 1" />
    <limit
      lower="-6.28"
      upper="6.28"
      effort="10"
      velocity="3.925" />
  </joint>
  
  


    <!-- 新增圆柱体 Link7_cylinder -->
  <link name="l_Link7_cylinder">
    <inertial>
      <origin xyz="0 0 0" rpy="0 0 0"/>
      <mass value="0.1" />
      <inertia ixx="0.0001" ixy="0" ixz="0" iyy="0.0001" iyz="0" izz="0.0001"/>
    </inertial>
    <visual>
      <origin xyz="0 0 0.05" rpy="0 0 0"/>  <!-- 圆柱体中心偏移，可根据需求调 -->
      <geometry>
        <cylinder length="0.0285" radius="0.008" />
      </geometry>
      <material name="">
        <color rgba="0.8 0.8 0.2 1"/>
      </material>
    </visual>
    <collision>
      <origin xyz="0 0 0.05" rpy="0 0 0"/>
      <geometry>
        <cylinder length="0.04" radius="0.02" />
      </geometry>
    </collision>
  </link>

  <!-- <link
    name="l_hand_link">
    <inertial>
      <origin
        xyz="-0.0032674 -0.0073505 0.084948"
        rpy="0 0 0" />
      <mass
        value="0.19134" />
      <inertia
        ixx="0.00048203"
        ixy="-4.1698E-05"
        ixz="-5.5358E-06"
        iyy="0.00051126"
        iyz="-2.6069E-06"
        izz="0.00019085" />
    </inertial>
    <visual>
      <origin
        xyz="0 0 0"
        rpy="0 0 0" />
      <geometry>
        <mesh
          filename="meshes_true/l_hand_base_link.STL" />
      </geometry>
      <material
        name="">
        <color
          rgba="0.75294 0.75294 0.75294 1" />
      </material>
    </visual>
    <collision>
      <origin
        xyz="0 0 0"
        rpy="0 0 0" />
      <geometry>
        <mesh
          filename="meshes_true/l_hand_base_link.STL" />
      </geometry>
    </collision>
  </link> -->



 <link
    name="l_gripper_base_link">
    <inertial>
      <origin
        xyz="0.00339303654278191 -2.1205433560656E-05 -0.0099185365078758"
        rpy="0 0 0" />
      <mass
        value="0.105853592307918" />
      <inertia
        ixx="3.93795927851199E-05"
        ixy="-8.7395226509728E-08"
        ixz="5.91928672040786E-07"
        iyy="0.000106376720416166"
        iyz="-1.82858764303774E-10"
        izz="0.000125852616063213" />
    </inertial>
    <visual>
      <origin
        xyz="0 0 0"
        rpy="0 0 0" />
      <geometry>
        <mesh
          filename="meshes/gripper/base_link.STL" />
      </geometry>
      <material
        name="">
        <color
          rgba="0.894117647058823 0.913725490196078 0.929411764705882 1" />
      </material>
    </visual>
    <collision>
      <origin
        xyz="0 0 0"
        rpy="0 0 0" />
      <geometry>
        <mesh
          filename="meshes/gripper/base_link.STL" />
      </geometry>
    </collision>
  </link>
  <link
    name="l_gripper_Link1">
    <inertial>
      <origin
        xyz="0.0164149658242926 9.75754915755189E-09 0.00898193900447147"
        rpy="0 0 0" />
      <mass
        value="0.00647716099397792" />
      <inertia
        ixx="2.95068972140683E-07"
        ixy="8.63208170411155E-13"
        ixz="-1.92008628754607E-09"
        iyy="1.69979619476872E-06"
        iyz="-1.99232397395103E-13"
        izz="1.45016449434989E-06" />
    </inertial>
    <visual>
      <origin
        xyz="0 0 0"
        rpy="0 0 0" />
      <geometry>
        <mesh
          filename="meshes/gripper/Link1.STL" />
      </geometry>
      <material
        name="">
        <color
          rgba="0.894117647058823 0.913725490196078 0.929411764705882 1" />
      </material>
    </visual>
    <collision>
      <origin
        xyz="0 0 0"
        rpy="0 0 0" />
      <geometry>
        <mesh
          filename="meshes/gripper_Link1.STL" />
      </geometry>
    </collision>
  </link>
  <joint
    name="l_Link1"
    type="revolute">
    <origin
      xyz="0.036 -0.04 -0.019"
      rpy="-3.0158E-16 -7.1586E-16 -0.30719" />
    <parent
      link="l_gripper_base_link" />
    <child
      link="l_gripper_Link1" />
    <axis
      xyz="0 0 1" />
    <limit
      lower="0"
      upper="1"
      effort="1"
      velocity="1" />
  </joint>
  <link
    name="l_gripper_Link11">
    <inertial>
      <origin
        xyz="0.011366555972498 0.0118642725662323 0.0060000073930068"
        rpy="0 0 0" />
      <mass
        value="0.0127543420299361" />
      <inertia
        ixx="5.68538478020233E-07"
        ixy="-2.68012262729007E-07"
        ixz="9.34125984931838E-13"
        iyy="1.45145776457487E-06"
        iyz="9.34355360561326E-13"
        izz="1.50564598220449E-06" />
    </inertial>
    <visual>
      <origin
        xyz="0 0 0"
        rpy="0 0 0" />
      <geometry>
        <mesh
          filename="meshes/gripper/Link11.STL" />
      </geometry>
      <material
        name="">
        <color
          rgba="0.894117647058823 0.913725490196078 0.929411764705882 1" />
      </material>
    </visual>
    <collision>
      <origin
        xyz="0 0 0"
        rpy="0 0 0" />
      <geometry>
        <mesh
          filename="meshes/gripper/Link11.STL" />
      </geometry>
    </collision>
  </link>
  <joint
    name="l_gripper_Link11"
    type="revolute">
    <origin
      xyz="0.042 0 0.003"
      rpy="5.0393E-16 5.6225E-16 0.30719" />
    <parent
      link="l_gripper_Link1" />
    <child
      link="l_gripper_Link11" />
    <axis
      xyz="0 0 1" />
    <limit
      lower="-1"
      upper="0"
      effort="1"
      velocity="1" />
  </joint>
  <link
    name="l_gripper_Link2">
    <inertial>
      <origin
        xyz="0.0164149658242926 9.75754915755189E-09 0.00898193900447147"
        rpy="0 0 0" />
      <mass
        value="0.00647716099397793" />
      <inertia
        ixx="2.95068972140683E-07"
        ixy="8.63208169650113E-13"
        ixz="-1.92008628755341E-09"
        iyy="1.69979619476872E-06"
        iyz="-1.99232397320157E-13"
        izz="1.45016449434989E-06" />
    </inertial>
    <visual>
      <origin
        xyz="0 0 0"
        rpy="0 0 0" />
      <geometry>
        <mesh
          filename="meshes/gripper/Link2.STL" />
      </geometry>
      <material
        name="">
        <color
          rgba="0.894117647058823 0.913725490196078 0.929411764705882 1" />
      </material>
    </visual>
    <collision>
      <origin
        xyz="0 0 0"
        rpy="0 0 0" />
      <geometry>
        <mesh
          filename="meshes/gripper/Link2.STL" />
      </geometry>
    </collision>
  </link>
  <joint
    name="l_gripper_Link2"
    type="revolute">
    <origin
      xyz="0.036 0.04 -0.019"
      rpy="-2.6397E-16 3.7199E-16 0.30719" />
    <parent
      link="l_gripper_base_link" />
    <child
      link="l_gripper_Link2" />
    <axis
      xyz="0 0 1" />
    <limit
      lower="-1"
      upper="0"
      effort="1"
      velocity="1" />
  </joint>
  <link
    name="l_gripper_Link22">
    <inertial>
      <origin
        xyz="-0.011366555972498 0.0118642725662323 -0.0060000073930068"
        rpy="0 0 0" />
      <mass
        value="0.0127543420299362" />
      <inertia
        ixx="5.68538478020238E-07"
        ixy="2.6801226272901E-07"
        ixz="9.34125986250171E-13"
        iyy="1.45145776457489E-06"
        iyz="-9.34355361631596E-13"
        izz="1.5056459822045E-06" />
    </inertial>
    <visual>
      <origin
        xyz="0 0 0"
        rpy="0 0 0" />
      <geometry>
        <mesh
          filename="meshes/gripper/Link22.STL" />
      </geometry>
      <material
        name="">
        <color
          rgba="0.894117647058823 0.913725490196078 0.929411764705882 1" />
      </material>
    </visual>
    <collision>
      <origin
        xyz="0 0 0"
        rpy="0 0 0" />
      <geometry>
        <mesh
          filename="meshes/gripper/Link22.STL" />
      </geometry>
    </collision>
  </link>
  <joint
    name="l_gripper_Link22"
    type="revolute">
    <origin
      xyz="0.042 0 0.015"
      rpy="-3.641E-16 2.4584E-16 2.8344" />
    <parent
      link="l_gripper_Link2" />
    <child
      link="l_gripper_Link22" />
    <axis
      xyz="0 0 1" />
    <limit
      lower="0"
      upper="1"
      effort="1"
      velocity="1" />
  </joint>















  <!-- <joint
    name="l_hand_joint"
    type="fixed">
    <origin
      xyz="0 0 0.0445"
      rpy="0 0 3.1415" />
    <parent
      link="l_link7" />
    <child
      link="l_hand_link" />
    <axis
      xyz="0 0 0" />
    <limit
      lower="0"
      upper="0"
      effort="0"
      velocity="0" />
  </joint>   -->
    
    <joint
    name="l_hand_joint_cylinder"
    type="fixed">
    <origin
      xyz="0 0 -0.0045"
      rpy="0 0 0" />
    <parent
      link="l_link7" />
    <child
      link="l_Link7_cylinder" />
    <axis
      xyz="0 0 -1" />
    <limit
      lower="0"
      upper="0"
      effort="0"
      velocity="0" />
  </joint>  
  

  <joint
    name="cylinder_to_l_gripper_joint"
    type="fixed">
    <origin
      xyz="-0.01 0 0.097"
      rpy="0 -1.57 0" />
    <parent
      link="l_Link7_cylinder" />
    <child
      link="l_gripper_base_link" />
    <axis
      xyz="0 0 -1" />
    <limit
      lower="0"
      upper="0"
      effort="0"
      velocity="0" />
  </joint>  

</robot>
